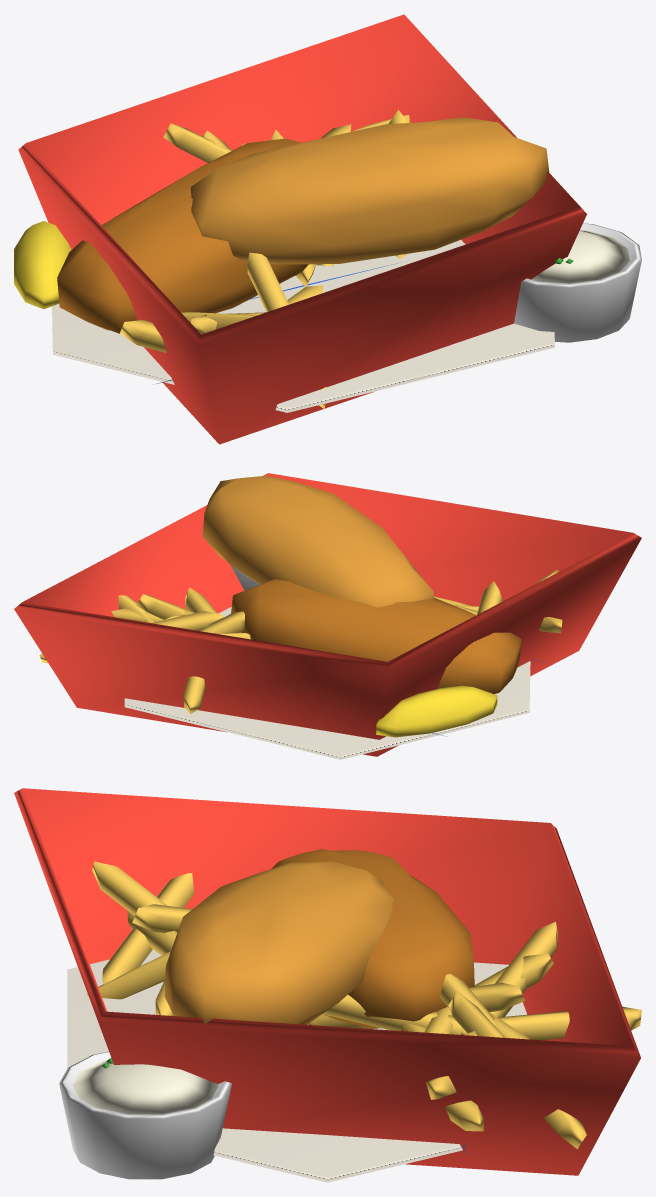
3 views of the same model, one above another, from view 1: azimuth 30°, elevation 25°; view 2: azimuth 150°, elevation 25°; view 3: azimuth 270°, elevation 25° (orthographic). The views are drawn at different scales.
Parts seen in each view (by area): view 1: basket, fish (×2), paper, cup, lime, fries (×3), tartar; view 2: basket, fish (×2), paper, lime, fries (×7); view 3: basket, fish (×2), fries (×13), paper, cup, tartar.
Part boxes in pixels (bbox=[...]): basket: bbox=[18, 14, 586, 444]; fish (×2): bbox=[57, 117, 549, 333]; paper: bbox=[52, 240, 554, 412]; cup: bbox=[514, 223, 641, 342]; lime: bbox=[14, 221, 71, 309]; fries (×3): bbox=[120, 123, 326, 408]; tartar: bbox=[531, 230, 629, 283]; basket: bbox=[14, 473, 641, 756]; fish (×2): bbox=[202, 475, 521, 693]; paper: bbox=[124, 607, 530, 759]; lime: bbox=[376, 685, 497, 737]; fries (×7): bbox=[39, 581, 502, 713]; basket: bbox=[14, 788, 640, 1175]; fish (×2): bbox=[164, 849, 474, 1028]; fries (×13): bbox=[86, 861, 641, 1149]; paper: bbox=[67, 949, 526, 1182]; cup: bbox=[59, 1051, 231, 1179]; tartar: bbox=[72, 1060, 218, 1114].
Bounding box in the file's own units: 0.1396 × 0.0485 × 0.1381.
